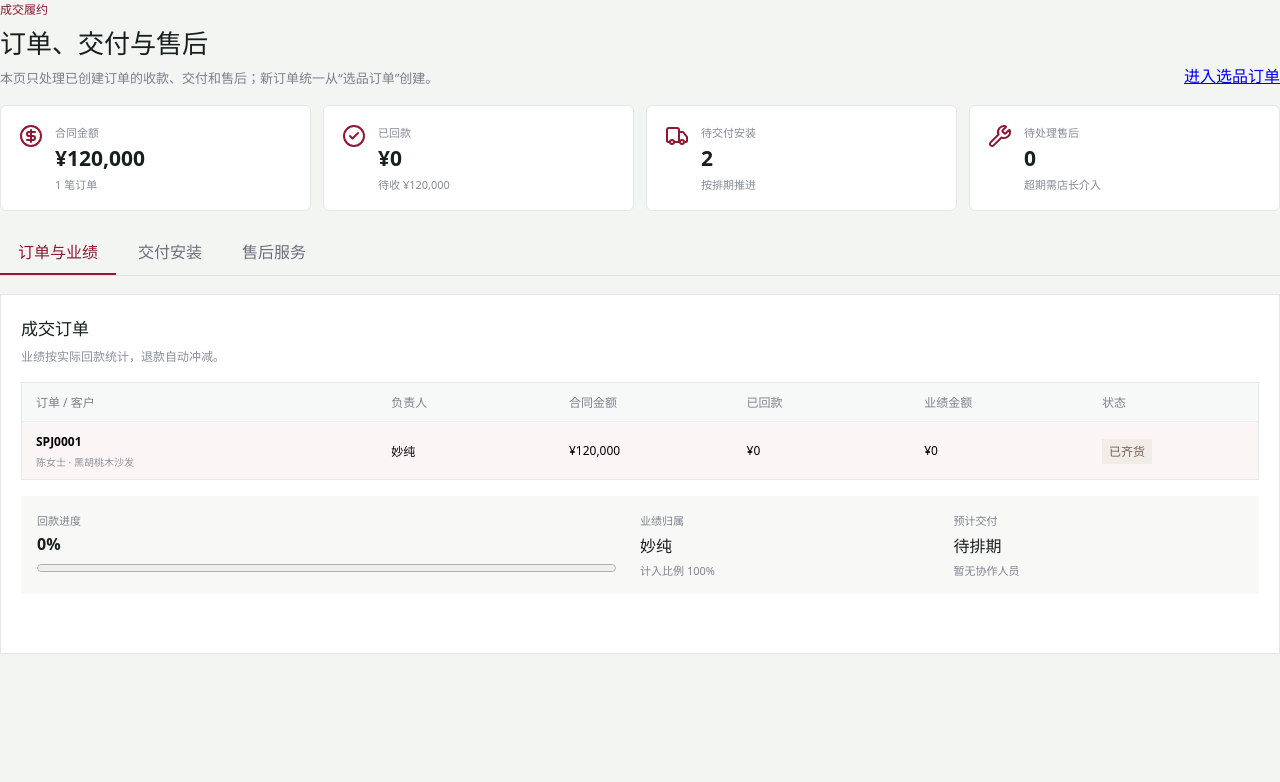
Test: LifecyclePage › shows the delivery customer list by expected month
Click the tab "交付安装" at coordinates (170, 252), box [120,229,220,275]
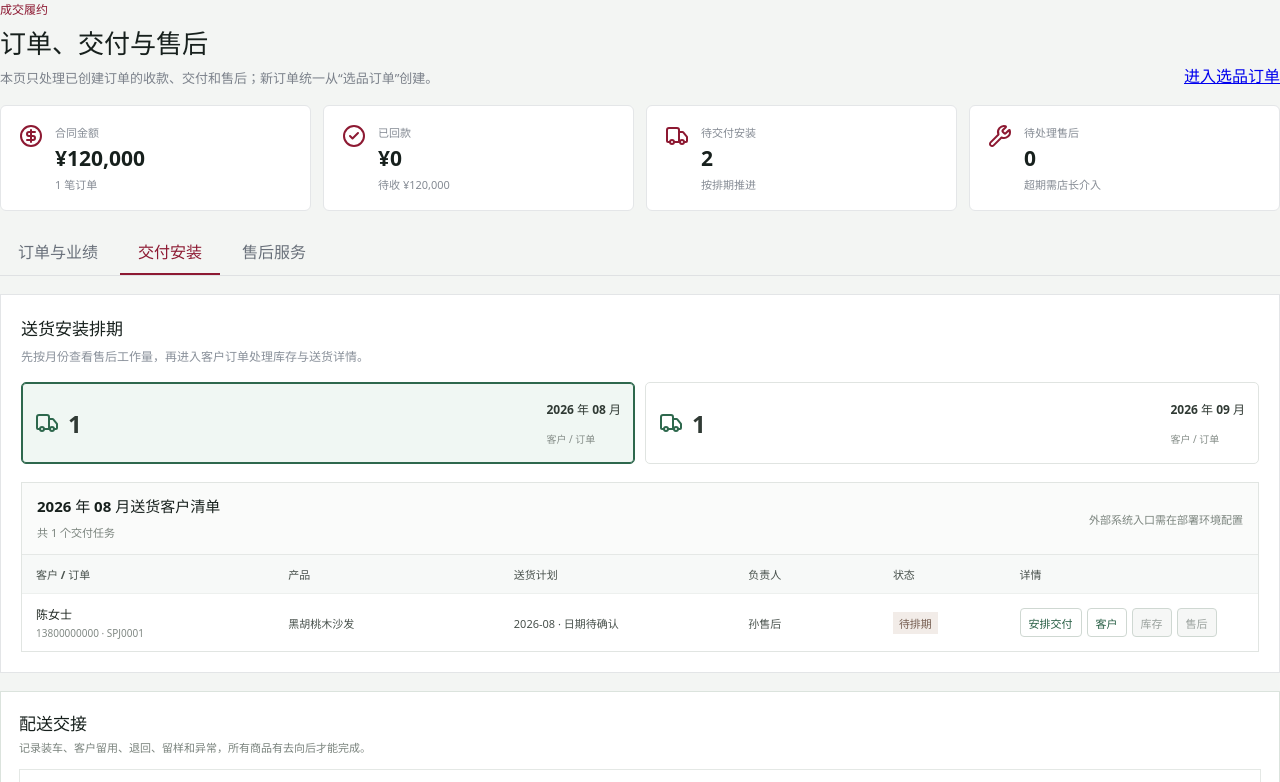
Check: the heading "2026 年 08 月送货客户清单" is shown, box [37,495,220,516]
Click the button "2026 年 09 月 1 客户 / 订单" at coordinates (1208, 410), box [645,382,1259,464]
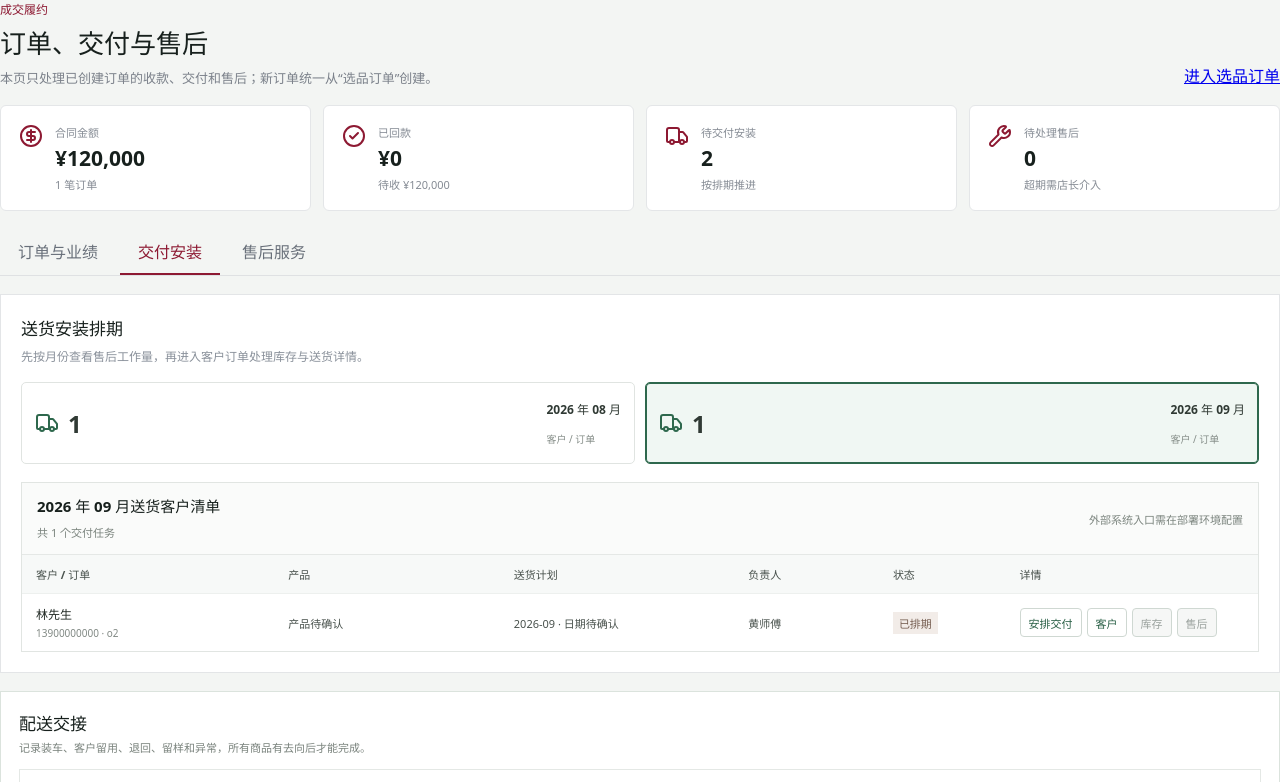
Check: the text "林先生" is shown 2 times
Check: the heading "2026 年 09 月送货客户清单" is shown, box [37,495,220,516]
